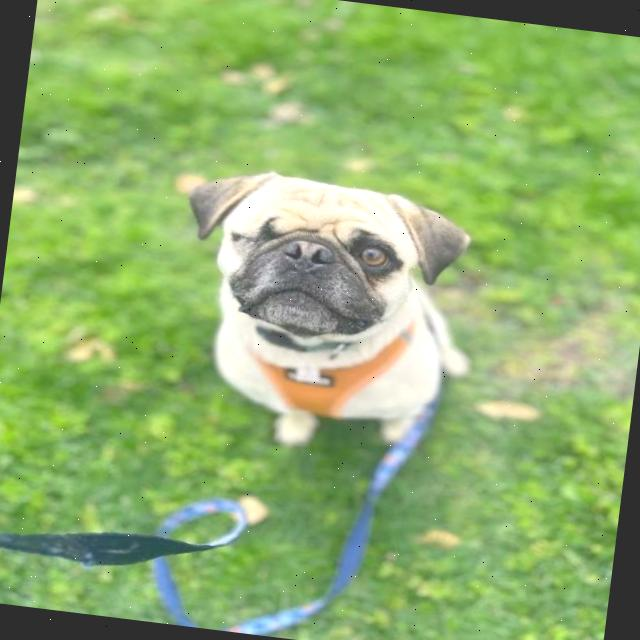pug_dog: (166, 150, 486, 388)
